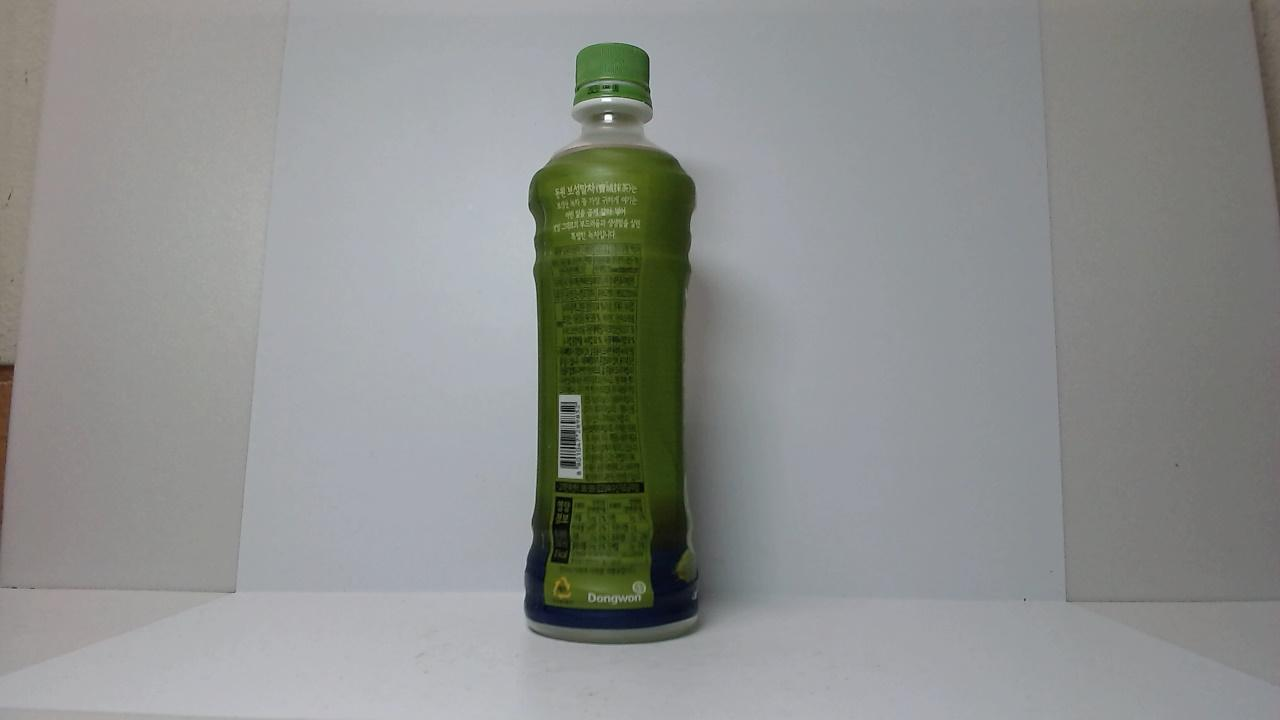bottle: (508, 328, 713, 350)
